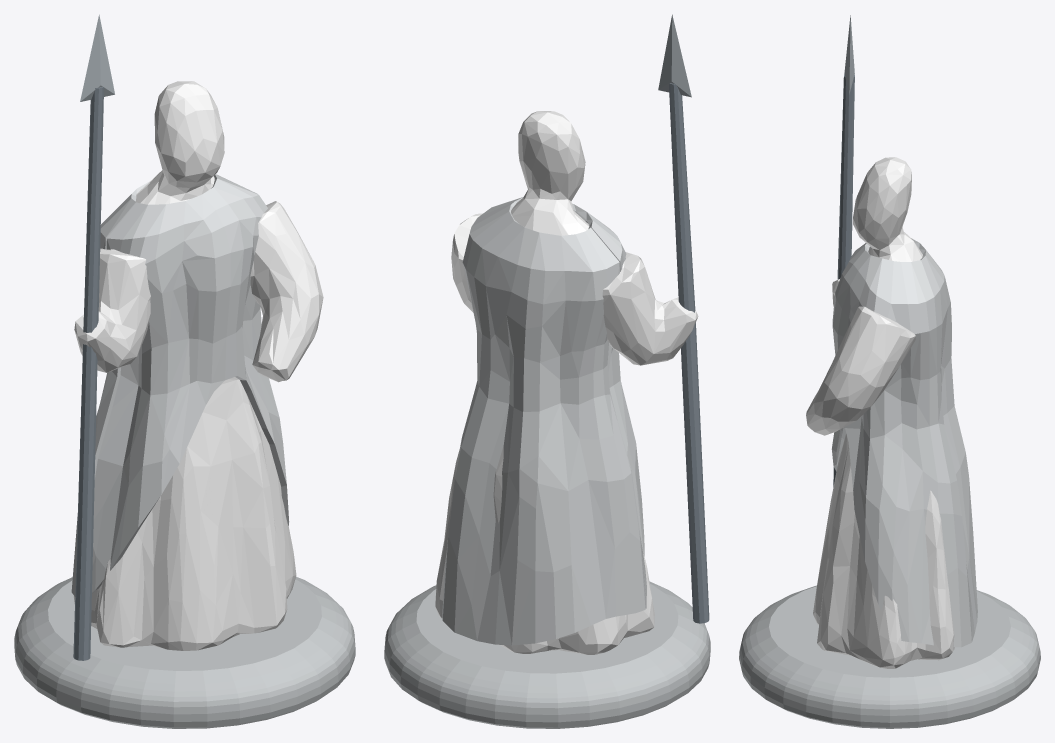
File: spearman.glb
3 views of the same model, side by side, from view 1: azimuth 30°, elevation 25°; view 2: azimuth 150°, elevation 25°; view 3: azimuth 270°, elevation 25° (orthographic). The views are drawn at different scales.
Parts seen in each view (by area): view 1: Turned circular base; view 2: Turned circular base; view 3: Turned circular base.
Boxes of the visible parts, x1,y1,x2,y2 form: Turned circular base: (14, 14, 355, 728); Turned circular base: (384, 14, 710, 728); Turned circular base: (739, 15, 1040, 728).
Bounding box in the file's own units: 0.521 × 1.16 × 0.521.
